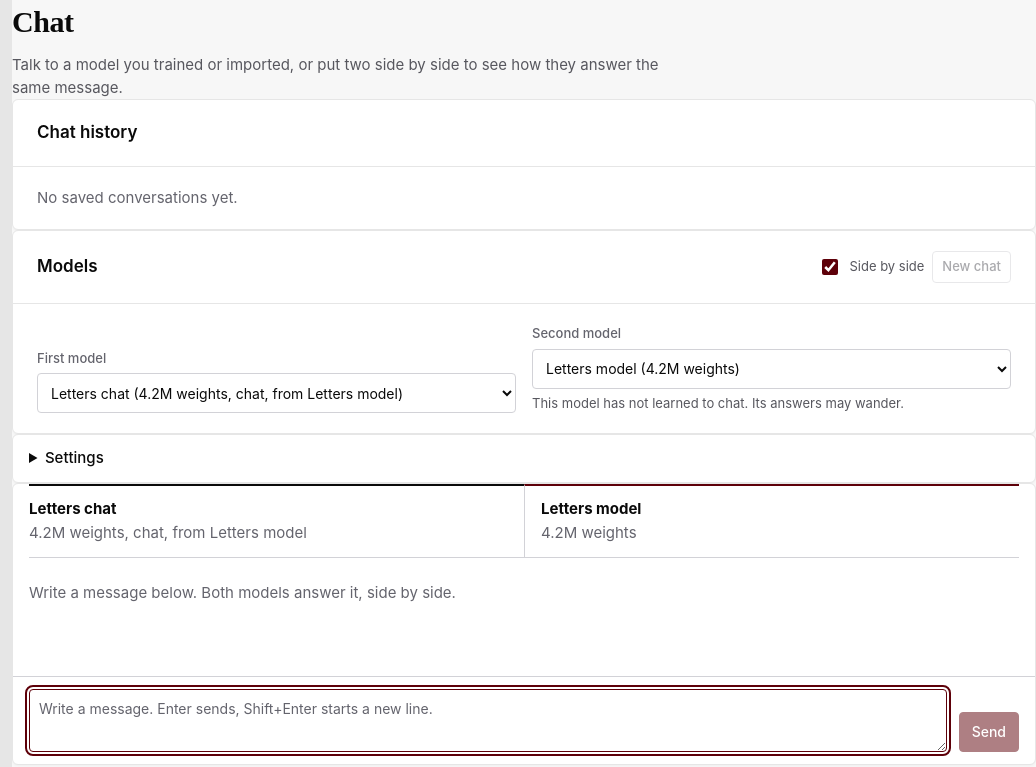
it: turns Send into Stop, and stops every answer being written
Expected: the dropdown labelled "Second model" is shown, [532,348,1011,388]
Step 1. Type "Hi" into the text box named "Your message" → {"x": 488, "y": 720}, box [29,688,947,752]
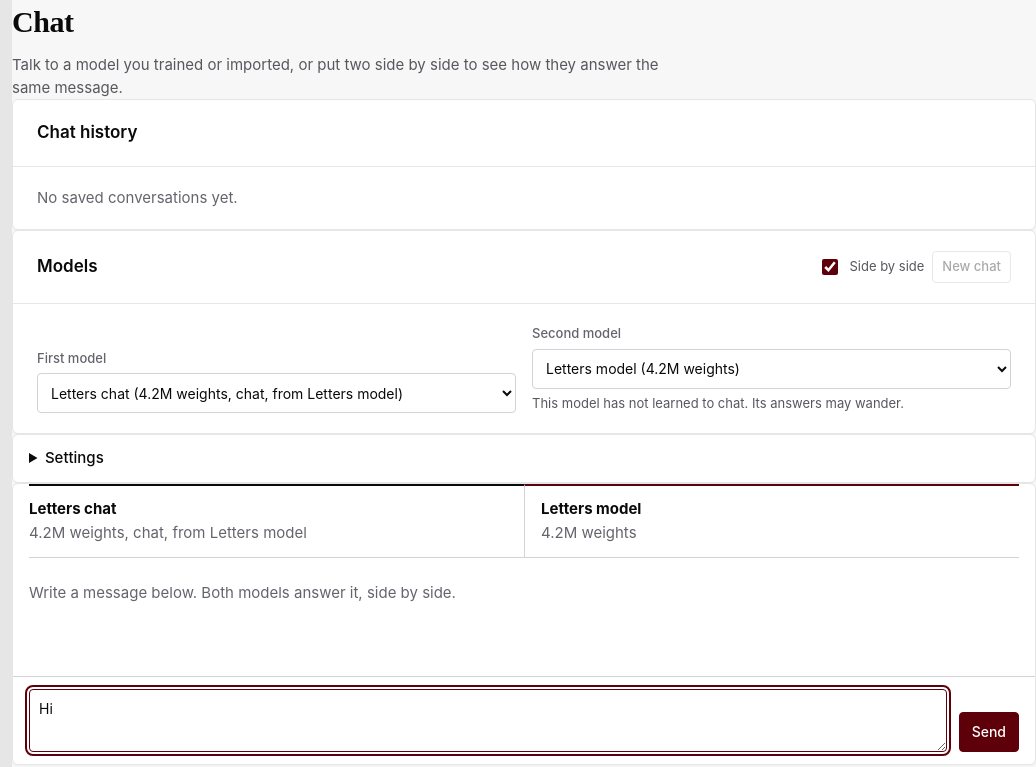
Step 2. Press Enter in the text box named "Your message", box [29,688,947,752]
(page scrolled)
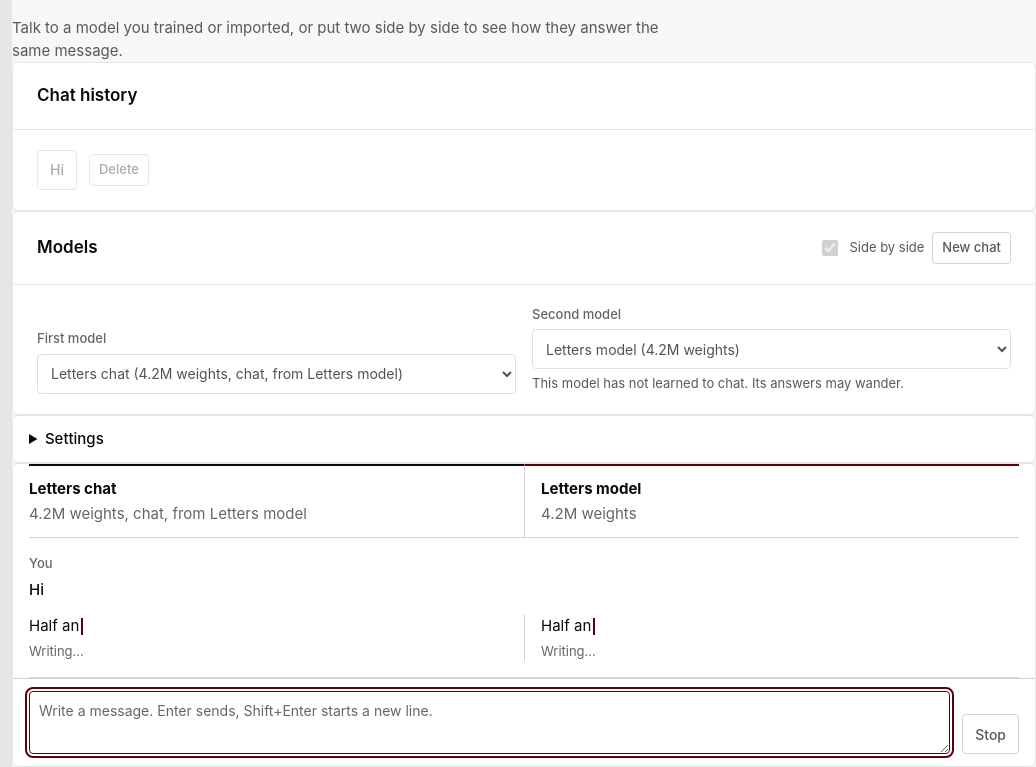
Expected: the dropdown labelled "First model" is disabled, [37,354,516,394]
Expected: the dropdown labelled "Second model" is disabled, [532,329,1011,369]
Step 3. Click the button "Stop" → {"x": 991, "y": 734}, box [962,714,1019,754]
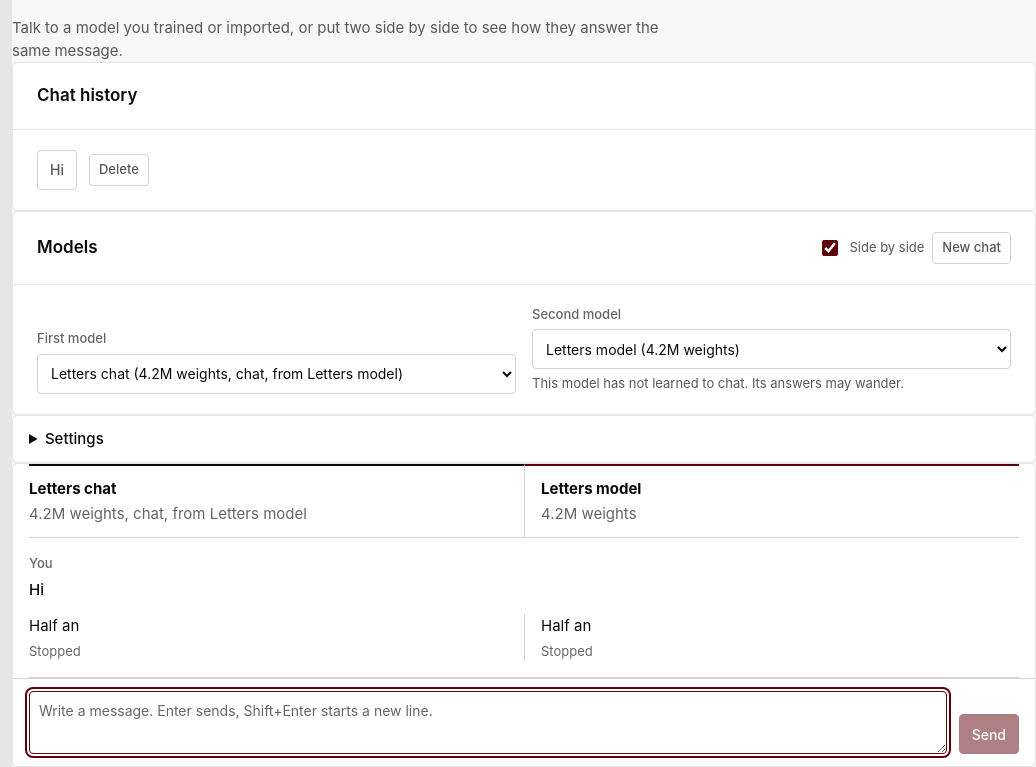
Expected: the text "Half an" is shown 2 times, [29,616,79,634]; [541,616,591,634]
Expected: the text "Stopped" is shown 2 times, [29,642,81,658]; [541,642,593,658]
Expected: the button "Send" is shown, [959,714,1019,754]
